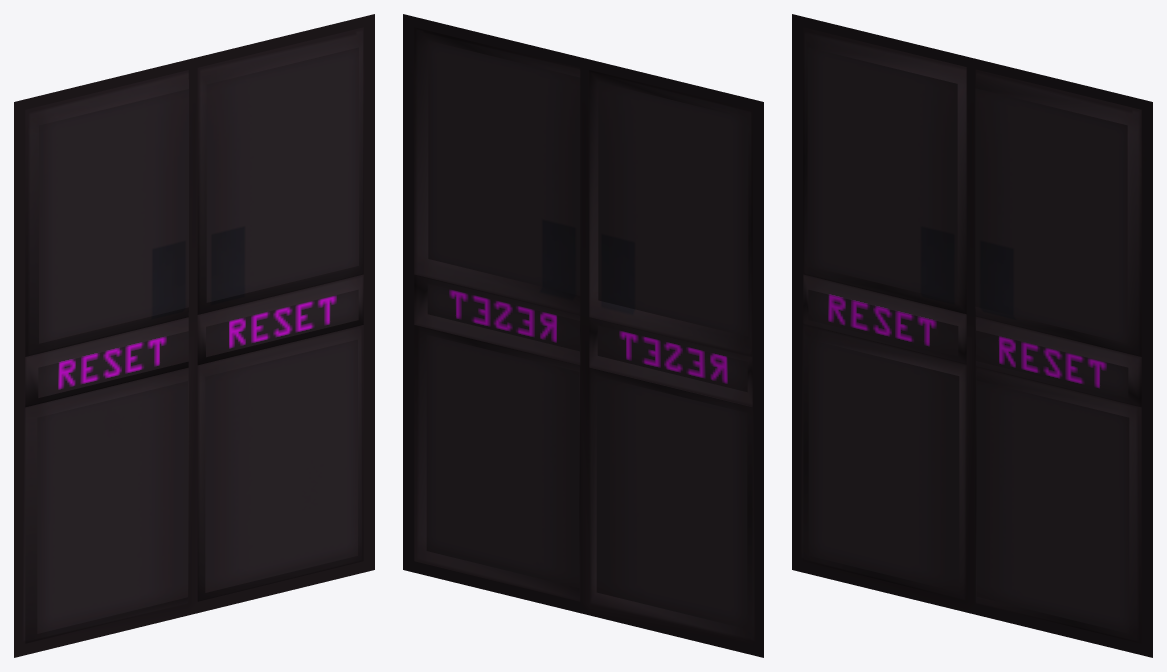
Rendered from Door1.fbx.
3 views of the same model, side by side, from view 1: azimuth 30°, elevation 25°; view 2: azimuth 150°, elevation 25°; view 3: azimuth 330°, elevation 25° (orthographic).
Visible parts, largest first — view 1: Main_Door; view 2: Main_Door; view 3: Main_Door.
Part boxes in pixels (x1=…): Main_Door: x1=14, y1=14, x2=374, y2=657; Main_Door: x1=403, y1=14, x2=763, y2=657; Main_Door: x1=792, y1=14, x2=1152, y2=657.
Size of the model in its own units: 0.0931 by 0.1372 by 0.00209.
